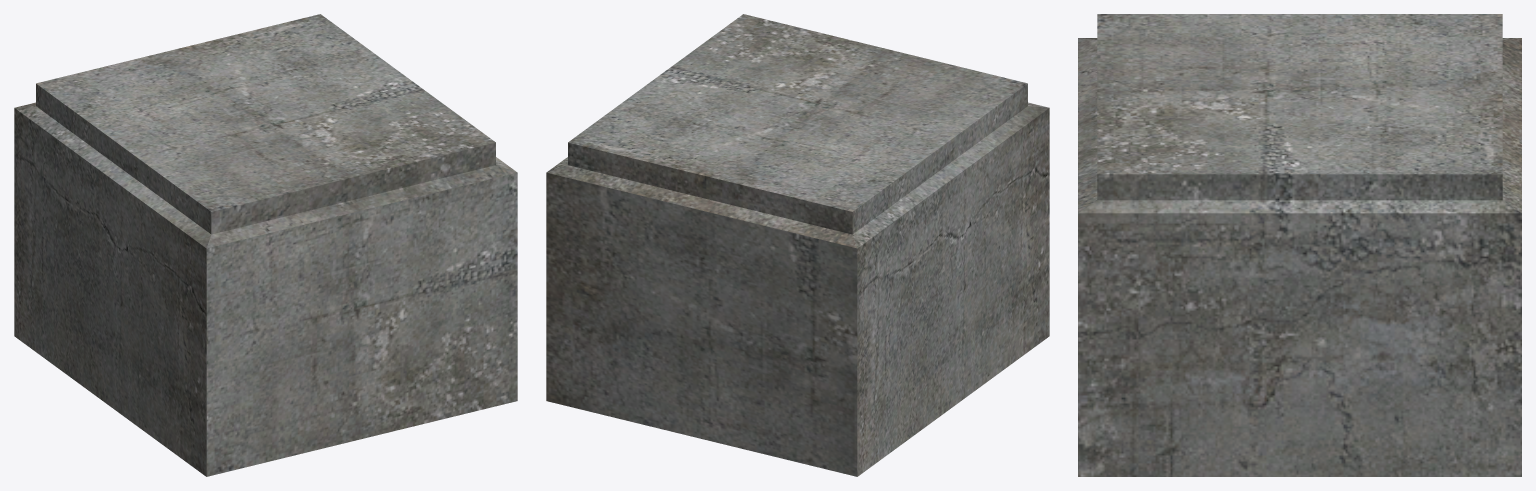
The model's file is Prop_Sd01.glb.
3 renders of one model, left to right at view 1: azimuth 30°, elevation 25°; view 2: azimuth 150°, elevation 25°; view 3: azimuth 270°, elevation 25°, orthographic. The views are drawn at different scales.
Parts seen in each view (by area): view 1: xiutz_sd_01; view 2: xiutz_sd_01; view 3: xiutz_sd_01.
Boxes of the visible parts, x1,y1,x2,y2 form: xiutz_sd_01: (14, 14, 517, 476); xiutz_sd_01: (546, 14, 1049, 476); xiutz_sd_01: (1078, 14, 1521, 476).
Bounding box in the file's own units: 0.6311 × 0.4956 × 0.6752.
Materials: 1 (1 with a texture image).
